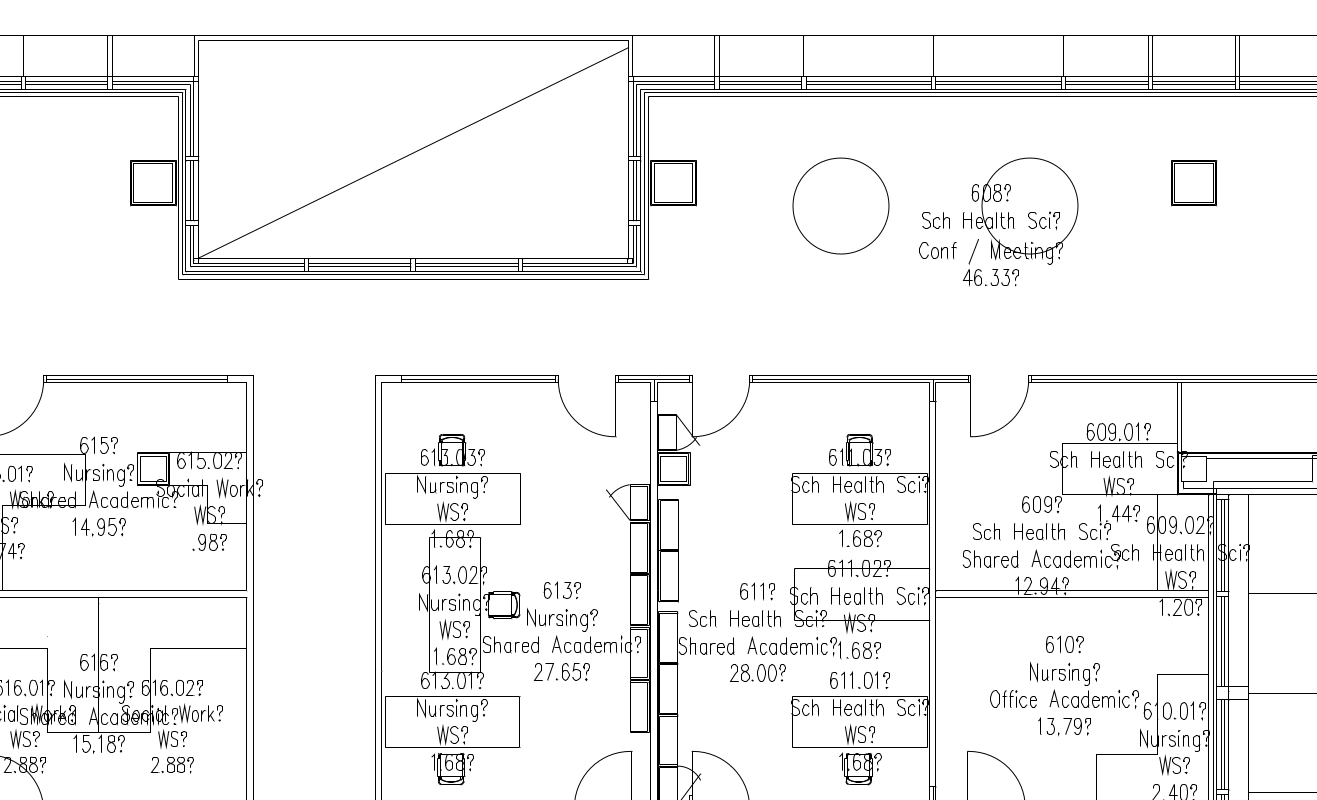door: (557, 374, 625, 449), (686, 378, 754, 453), (966, 377, 1034, 452), (963, 725, 1031, 800), (684, 725, 752, 800), (569, 740, 638, 800), (1, 382, 53, 441)
